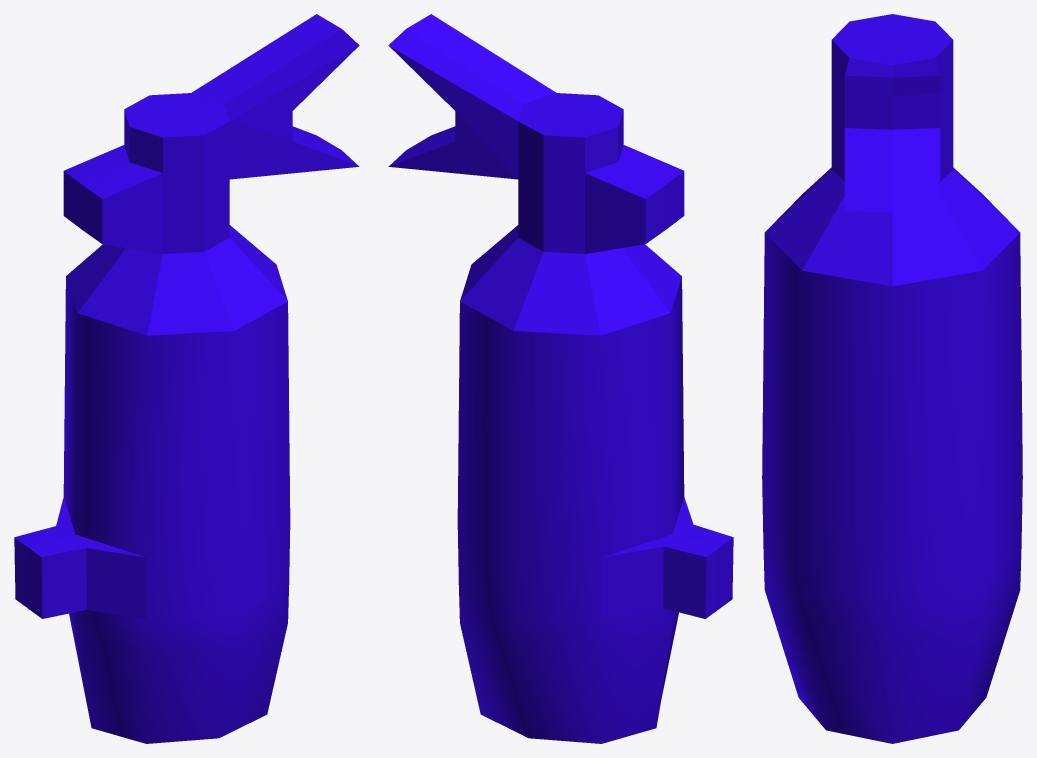
Rendered from office_pack_fireExtinguisher_1_meshCollider.fbx.
3 views of the same model, side by side, from view 1: azimuth 30°, elevation 25°; view 2: azimuth 150°, elevation 25°; view 3: azimuth 270°, elevation 25° (orthographic). The views are drawn at different scales.
Visible parts, largest first — view 1: office_pack_fireExtinguisher_1_meshCollider; view 2: office_pack_fireExtinguisher_1_meshCollider; view 3: office_pack_fireExtinguisher_1_meshCollider.
Boxes of the visible parts, x1,y1,x2,y2 form: office_pack_fireExtinguisher_1_meshCollider: (14, 14, 359, 743); office_pack_fireExtinguisher_1_meshCollider: (388, 14, 733, 743); office_pack_fireExtinguisher_1_meshCollider: (762, 14, 1022, 743).
Bounding box in the file's own units: 21.39 × 41.5 × 13.82.
